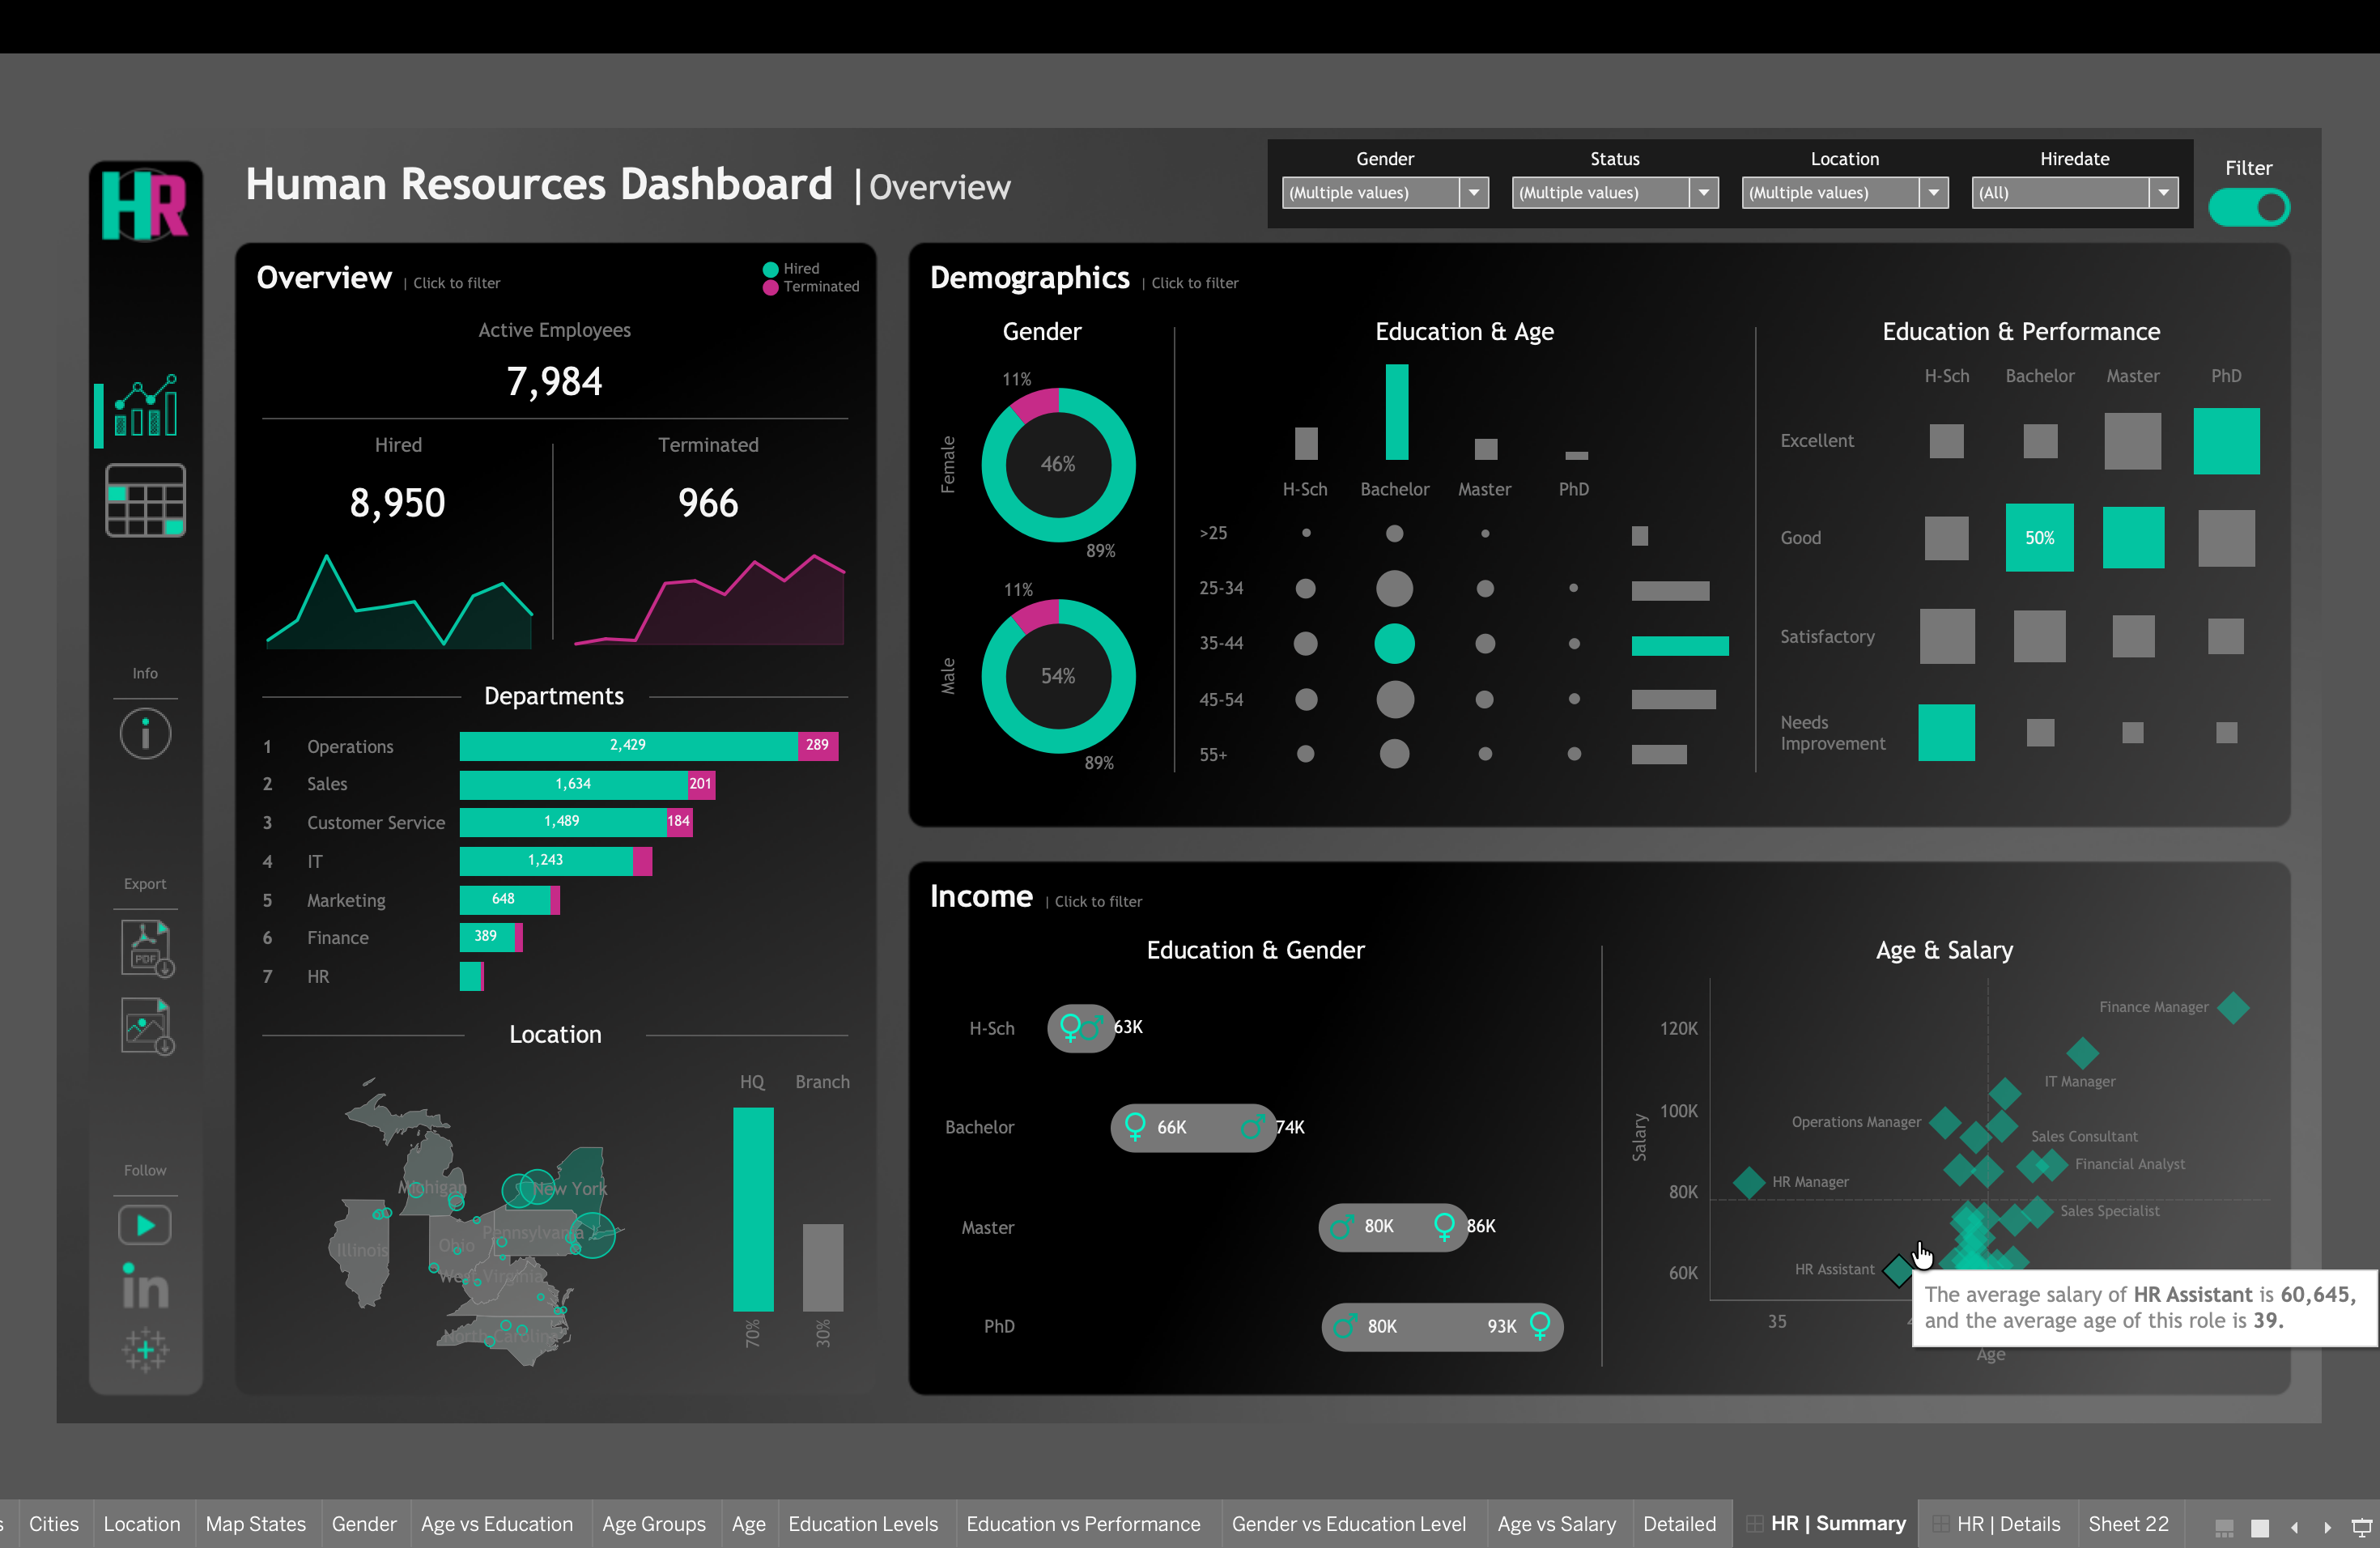

What the dashboard file says about the page in this screenshot:
{"tool":"tableau","page":{"name":"HR | Summary","canvas":[1400,800],"ordinal":1},"visuals":[{"type":"image","param":"Image/background dashbaord summary.png","box":[0,0,1400,800]},{"type":"blank","box":[90,0,1309,240]},{"type":"text","box":[110,0,675,70]},{"type":"blank","box":[785,0,595,70]},{"type":"filter","title":"Gender vs Education Level","param":"[federated.1uy6vyf0tya8w3119f4041qdymfc].[none:Gender:nk]","box":[750,9,142,51]},{"type":"filter","title":"Gender vs Education Level","param":"[federated.1uy6vyf0tya8w3119f4041qdymfc].[none:Calculation_2981664453132697602:n","box":[892,9,142,51]},{"type":"filter","title":"Gender vs Education Level","param":"[federated.1uy6vyf0tya8w3119f4041qdymfc].[none:Calculation_3363625995846344715:n","box":[1034,9,142,51]},{"type":"filter","title":"Gender vs Education Level","param":"[federated.1uy6vyf0tya8w3119f4041qdymfc].[yr:Hiredate:ok]","box":[1176,9,142,51]},{"type":"text","box":[1319,10,71,30]},{"type":"image","param":"Image/Logo.png","box":[20,20,70,55]},{"type":"dashboard-object","box":[1329,25,51,48]},{"type":"text","box":[117,77,382,31]},{"type":"text","box":[433,77,85,32]},{"type":"text","box":[533,77,840,31]},{"type":"blank","box":[30,85,50,73.3]},{"type":"text","box":[117,108,382,28]},{"type":"text","box":[533,113,152,26]},{"type":"blank","box":[690,113,1,295]},{"type":"text","box":[696,113,348,26]},{"type":"blank","box":[1049,113,1,295]},{"type":"text","box":[1055,113,318,26]},{"type":"worksheet","title":"BAN Active","mark":"Text","box":[117,136,382,43]},{"type":"worksheet","title":"Gender","mark":"Pie","rows":["Gender"],"cols":["Calculation_3363625995853570061","Calculation_3363625995853570061"],"box":[533,139,152,269]},{"type":"worksheet","title":"Education Levels","mark":"Bar","rows":["Calculation_3363625995831468034"],"cols":["Education Level"],"box":[696,139,348,70]},{"type":"worksheet","title":"Education vs Performance","mark":"Square","rows":["Performance Rating"],"cols":["Education Level"],"box":[1055,139,318,269]},{"type":"blank","box":[23,158,6,40]},{"type":"dashboard-object","box":[30,158.3,50,38]},{"type":"blank","box":[117,179,382,1]},{"type":"text","box":[117,185,189,22]},{"type":"blank","box":[306,185,1,141]},{"type":"text","box":[307,185,191.9,22]},{"type":"blank","box":[30,196.3,50,10]},{"type":"dashboard-object","box":[30,206.3,50,60]},{"type":"worksheet","title":"BAN Hired","mark":"Text","box":[117,207,189,49]},{"type":"worksheet","title":"BAN Terminated","mark":"Text","box":[307,207,191.9,49]},{"type":"worksheet","title":"Age vs Education","mark":"Circle","rows":["Calculation_3363625995862552598"],"cols":["Education Level"],"box":[696,209,273,199]},{"type":"worksheet","title":"Age Groups","mark":"Bar","rows":["Calculation_3363625995862552598"],"cols":["Calculation_3363625995831468034"],"box":[969,209,71,199]},{"type":"text","box":[90,240,1309,320]},{"type":"worksheet","title":"Hired By Year","mark":"Line","rows":["Calculation_3363625995831468034","Calculation_3363625995831468034"],"cols":["Hiredate"],"box":[117,256,189,70]},{"type":"worksheet","title":"Terminated By Year","mark":"Line","rows":["Calculation_3363625995832086533","Calculation_3363625995832086533"],"cols":["Termdate"],"box":[307,256,191.9,70]},{"type":"blank","box":[30,266.3,50,73.3]},{"type":"blank","box":[127,336,123.3,30]},{"type":"text","box":[250.3,336,115.3,30]},{"type":"blank","box":[365.6,336,123.3,30]},{"type":"text","box":[30,339.7,50,20]},{"type":"blank","box":[30,359.7,50,11]},{"type":"worksheet","title":"Departments","mark":"Bar","rows":["Calculation_3363625995844042762","Department"],"cols":["Calculation_3363625995831468034"],"box":[117,366,382,174]},{"type":"dashboard-object","box":[30,370.7,50,32]},{"type":"blank","box":[30,402.7,50,73.3]},{"type":"text","box":[533,459,840,31]},{"type":"text","box":[30,476,50,20]},{"type":"text","box":[533,495,416,26]},{"type":"blank","box":[954,495,1,280]},{"type":"text","box":[960,495,413,26]},{"type":"blank","box":[30,496,50,11]},{"type":"dashboard-object","box":[30,507,50,38]},{"type":"worksheet","title":"Gender vs Education Level","mark":"Square","rows":["Education Level"],"cols":["Salary","Salary"],"box":[533,521,416,254]},{"type":"worksheet","title":"Age vs Salary","mark":"Shape","rows":["Salary"],"cols":["Calculation_3363625995860541454"],"box":[960,521,413,254]},{"type":"blank","box":[30,545,50,10]},{"type":"blank","box":[127,545,124.7,30]},{"type":"text","box":[251.7,545,112.7,30]},{"type":"blank","box":[364.3,545,124.7,30]},{"type":"dashboard-object","box":[30,555,50,38]},{"type":"blank","box":[90,560,1309,240]},{"type":"worksheet","title":"Map States","mark":"Automatic","box":[117,575,287,200]},{"type":"worksheet","title":"Location","mark":"Bar","rows":["Calculation_3363625995831468034"],"cols":["Calculation_3363625995846344715","Calculation1"],"box":[404,575,95,200]},{"type":"blank","box":[30,593,50,60]},{"type":"text","box":[30,653,50,20]},{"type":"blank","box":[30,673,50,11]},{"type":"blank","box":[30,684,50,10]},{"type":"image","param":"Image/contact-linkedin.png","box":[30,694,50,30]},{"type":"blank","box":[30,724,50,10]},{"type":"image","box":[30,734,50,30]}]}

Visuals, with their boxes on the page's 1400x800 design canvas (x1, y1, x2, y2). These are canvas units, not pixel positions in the 2380x1548 screenshot, which may show the page scaled, cropped or inside an application window:
image: 0:0:1400:800
blank: 90:0:1399:240
text: 110:0:785:70
blank: 785:0:1380:70
"Gender vs Education Level" filter: 750:9:892:60
"Gender vs Education Level" filter: 892:9:1034:60
"Gender vs Education Level" filter: 1034:9:1176:60
"Gender vs Education Level" filter: 1176:9:1318:60
text: 1319:10:1390:40
image: 20:20:90:75
dashboard-object: 1329:25:1380:73
text: 117:77:499:108
text: 433:77:518:109
text: 533:77:1373:108
blank: 30:85:80:158
text: 117:108:499:136
text: 533:113:685:139
blank: 690:113:691:408
text: 696:113:1044:139
blank: 1049:113:1050:408
text: 1055:113:1373:139
"BAN Active" worksheet (Text marks): 117:136:499:179
"Gender" worksheet (Pie marks): 533:139:685:408
"Education Levels" worksheet (Bar marks): 696:139:1044:209
"Education vs Performance" worksheet (Square marks): 1055:139:1373:408
blank: 23:158:29:198
dashboard-object: 30:158:80:196
blank: 117:179:499:180
text: 117:185:306:207
blank: 306:185:307:326
text: 307:185:499:207
blank: 30:196:80:206
dashboard-object: 30:206:80:266
"BAN Hired" worksheet (Text marks): 117:207:306:256
"BAN Terminated" worksheet (Text marks): 307:207:499:256
"Age vs Education" worksheet (Circle marks): 696:209:969:408
"Age Groups" worksheet (Bar marks): 969:209:1040:408
text: 90:240:1399:560
"Hired By Year" worksheet (Line marks): 117:256:306:326
"Terminated By Year" worksheet (Line marks): 307:256:499:326
blank: 30:266:80:340
blank: 127:336:250:366
text: 250:336:366:366
blank: 366:336:489:366
text: 30:340:80:360
blank: 30:360:80:371
"Departments" worksheet (Bar marks): 117:366:499:540
dashboard-object: 30:371:80:403
blank: 30:403:80:476
text: 533:459:1373:490
text: 30:476:80:496
text: 533:495:949:521
blank: 954:495:955:775
text: 960:495:1373:521
blank: 30:496:80:507
dashboard-object: 30:507:80:545
"Gender vs Education Level" worksheet (Square marks): 533:521:949:775
"Age vs Salary" worksheet (Shape marks): 960:521:1373:775
blank: 30:545:80:555
blank: 127:545:252:575
text: 252:545:364:575
blank: 364:545:489:575
dashboard-object: 30:555:80:593
blank: 90:560:1399:800
"Map States" worksheet: 117:575:404:775
"Location" worksheet (Bar marks): 404:575:499:775
blank: 30:593:80:653
text: 30:653:80:673
blank: 30:673:80:684
blank: 30:684:80:694
image: 30:694:80:724
blank: 30:724:80:734
image: 30:734:80:764
